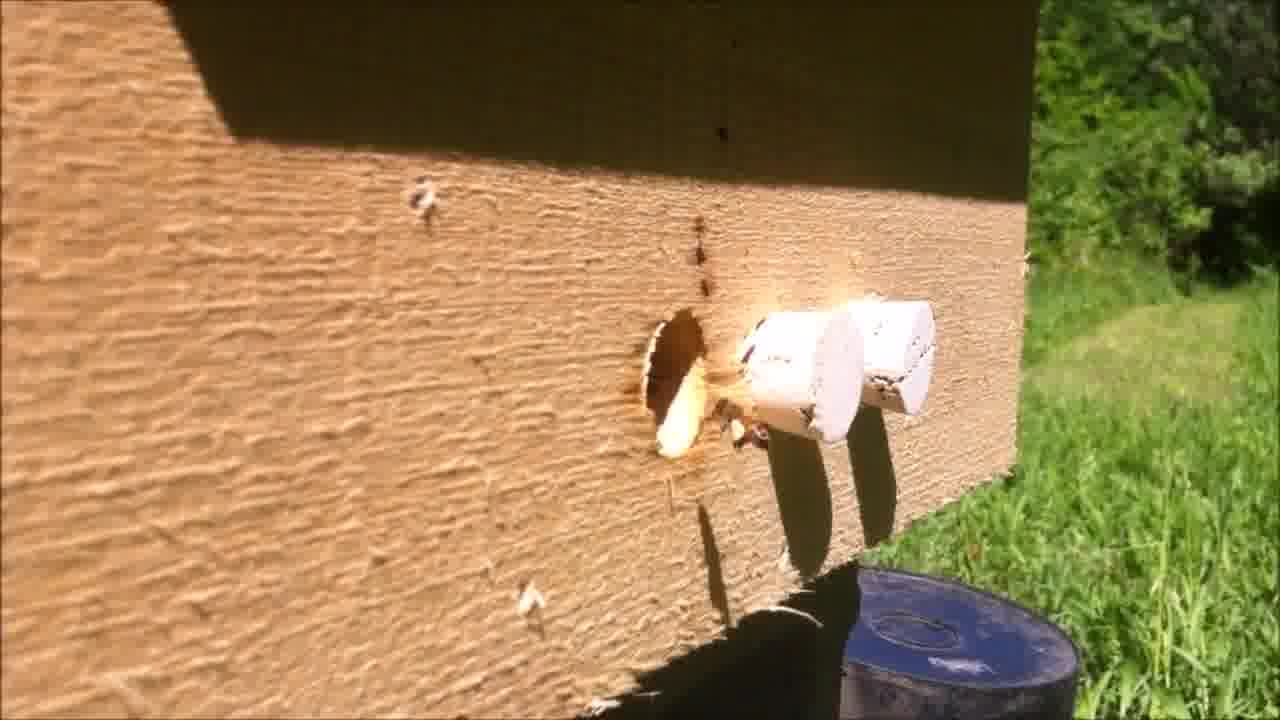pollen: (710, 395, 781, 455)
